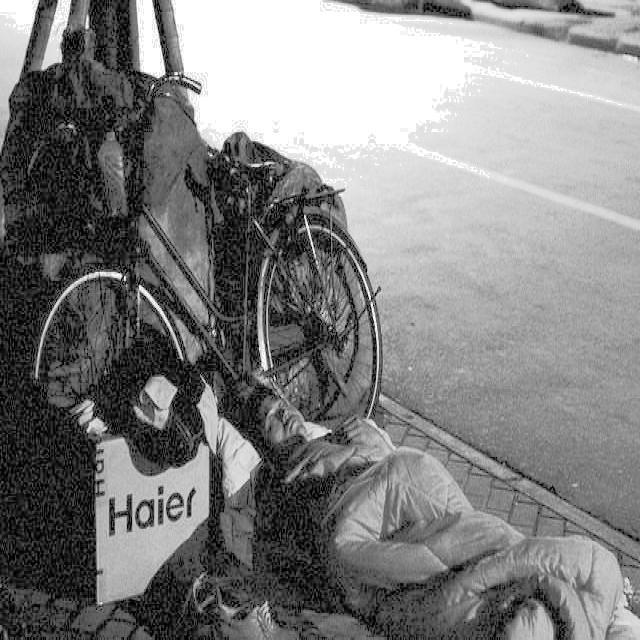Bicycle: (0, 182, 414, 439)
Person: (219, 369, 640, 640)
